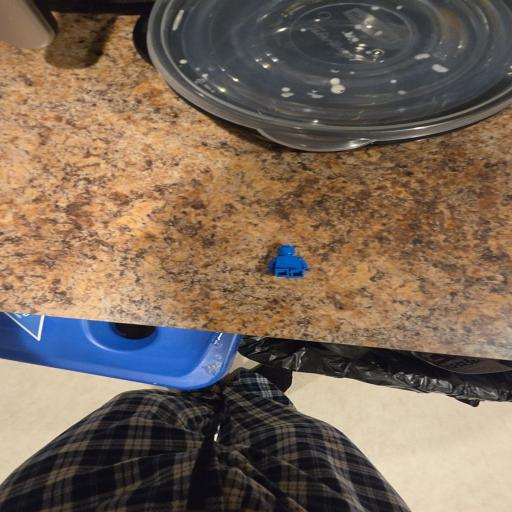Blue: (267, 245, 311, 277)
